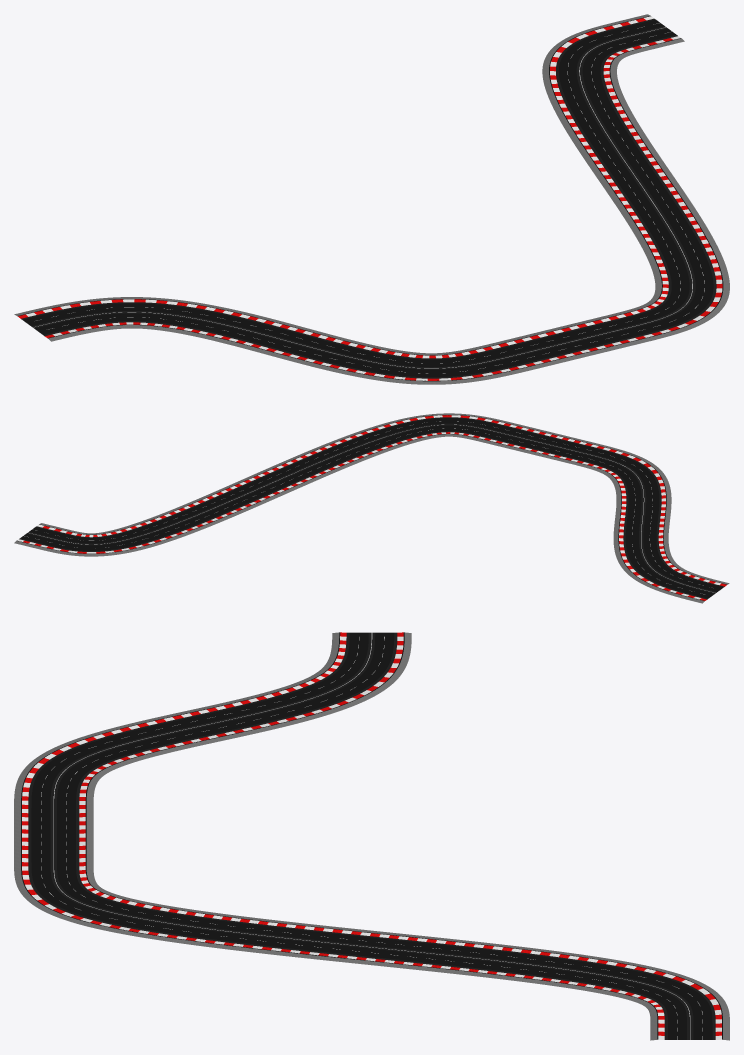
The model's file is S0.1c3-Mue.glb.
3 renders of one model, top to bottom at view 1: azimuth 30°, elevation 25°; view 2: azimuth 150°, elevation 25°; view 3: azimuth 270°, elevation 25°, orthographic. The views are drawn at different scales.
Parts seen in each view (by area): view 1: Grid; view 2: Grid; view 3: Grid.
Boxes of the visible parts, x1,y1,x2,y2 form: Grid: [14, 14, 729, 384]; Grid: [14, 413, 729, 603]; Grid: [14, 632, 729, 1040].
Size of the model in its own units: 303 by 0.3101 by 225.
